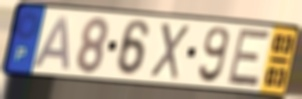6: (114, 18, 151, 79)
8: (74, 15, 110, 76)
9: (197, 25, 232, 86)
A: (31, 14, 72, 72)
E: (224, 26, 273, 89)
X: (148, 21, 191, 82)
